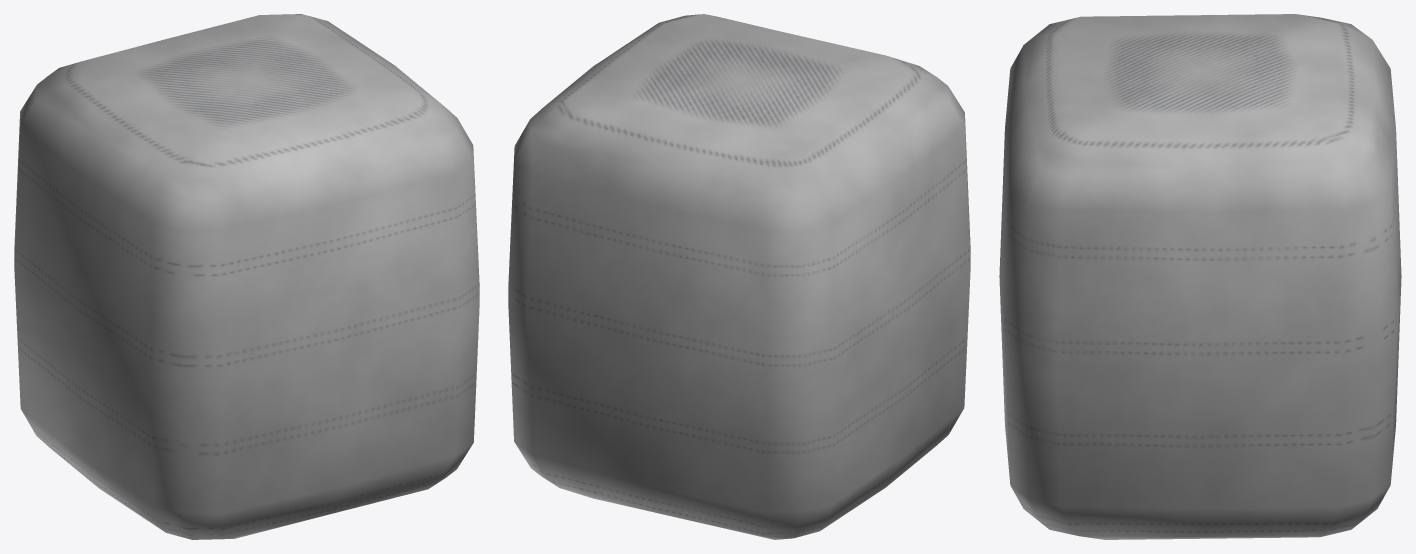
The model's file is RightUpperLeg_C1.fbx.
The picture shows the model from 3 angles, left to right: view 1: azimuth 30°, elevation 25°; view 2: azimuth 150°, elevation 25°; view 3: azimuth 270°, elevation 25°; orthographic projection. The views are drawn at different scales.
Visible parts, largest first — view 1: Civ_Jogging_RightUpperLeg_C1; view 2: Civ_Jogging_RightUpperLeg_C1; view 3: Civ_Jogging_RightUpperLeg_C1.
Boxes of the visible parts, left/top/right/bottom form: Civ_Jogging_RightUpperLeg_C1: left=14, top=14, right=479, bottom=539; Civ_Jogging_RightUpperLeg_C1: left=508, top=14, right=970, bottom=539; Civ_Jogging_RightUpperLeg_C1: left=999, top=14, right=1401, bottom=539.
Size of the model in its own units: 1.28 by 1.43 by 1.26.
